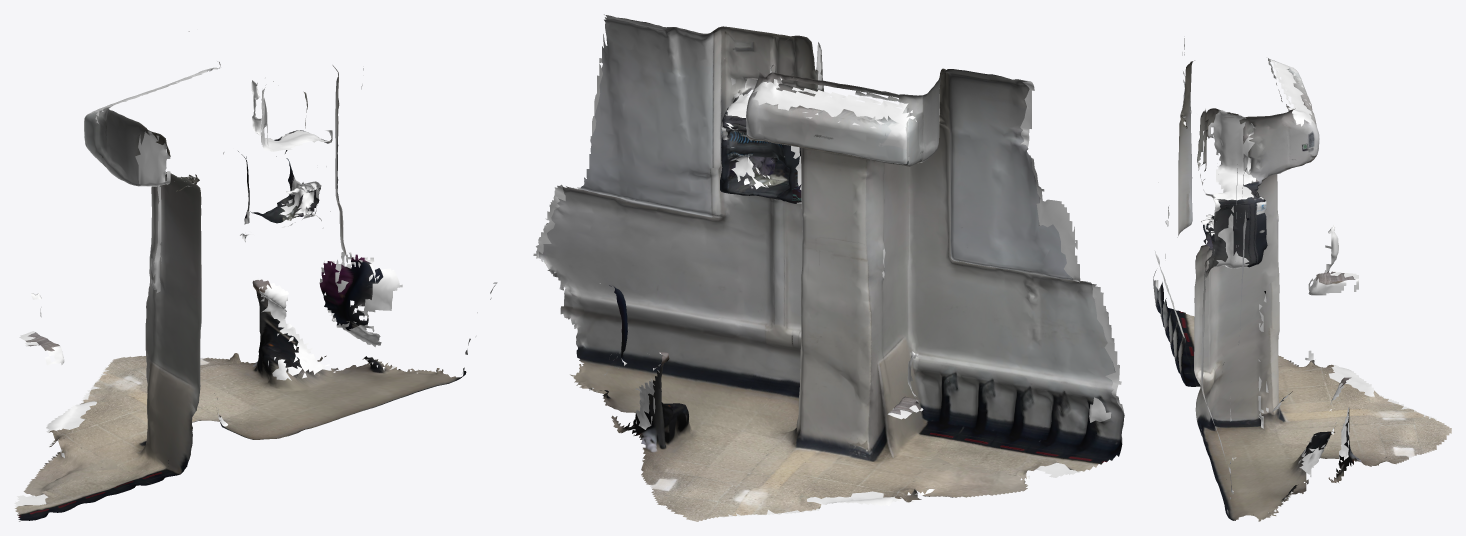
3 views of the same model, side by side, from view 1: azimuth 30°, elevation 25°; view 2: azimuth 150°, elevation 25°; view 3: azimuth 270°, elevation 25° (orthographic). The views are drawn at different scales.
Parts seen in each view (by area): view 1: texture_0, texture_1, object 1; view 2: texture_0, texture_1, object 1, texture_2; view 3: texture_1, texture_0, object 1.
Part boxes in pixels (box(x1,y1,x2,y2)): texture_0: box(15, 62, 497, 520); texture_1: box(23, 31, 495, 496); object 1: box(14, 61, 497, 521); texture_0: box(538, 67, 1124, 502); texture_1: box(542, 15, 1040, 521); object 1: box(533, 14, 1124, 517); texture_2: box(714, 26, 905, 195); texture_1: box(1183, 83, 1451, 520); texture_0: box(1153, 38, 1389, 521); object 1: box(1154, 52, 1436, 512).
Bounding box in the file's own units: 4.44 × 2.97 × 2.38.
4 materials, 3 textured.
